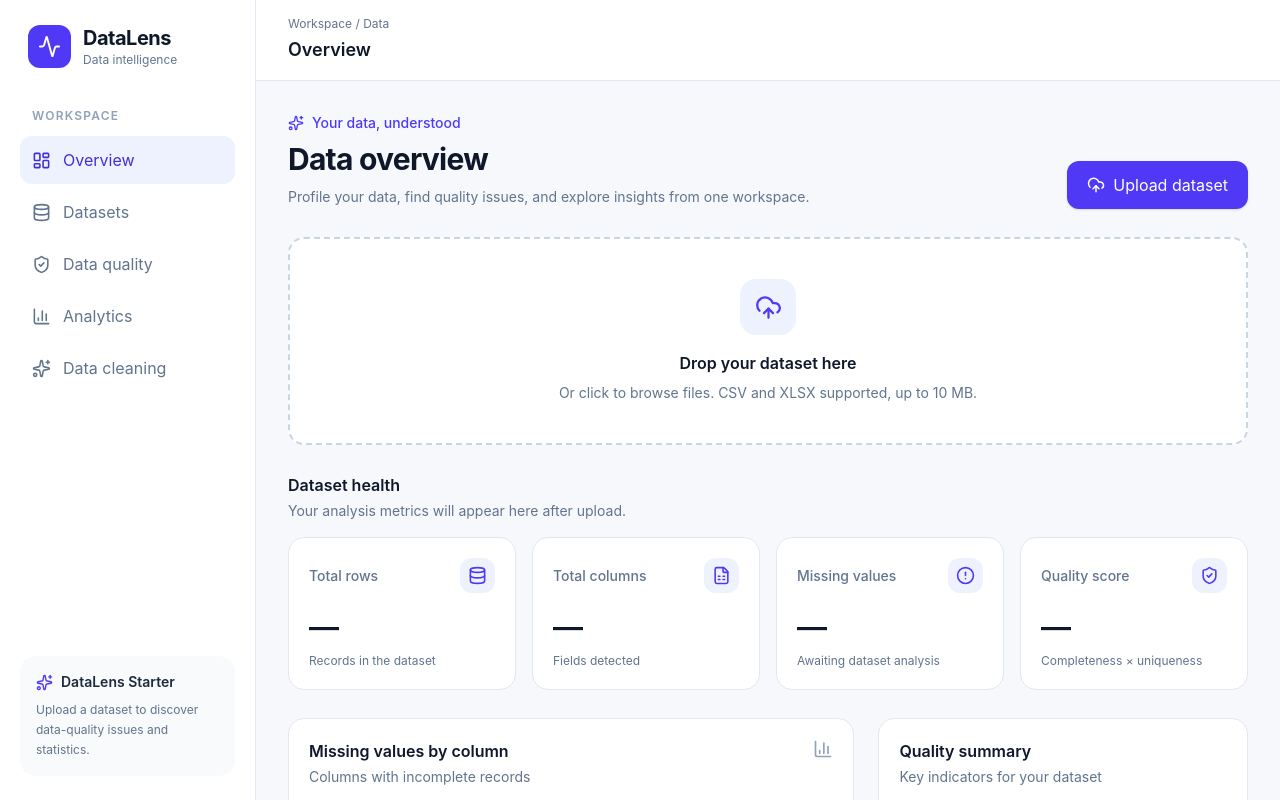
Test case: DataLens dashboard › opens the Data Cleaning Studio when no dataset is uploaded
Click the button "Data cleaning" at (128, 368), box [20,344,235,392]
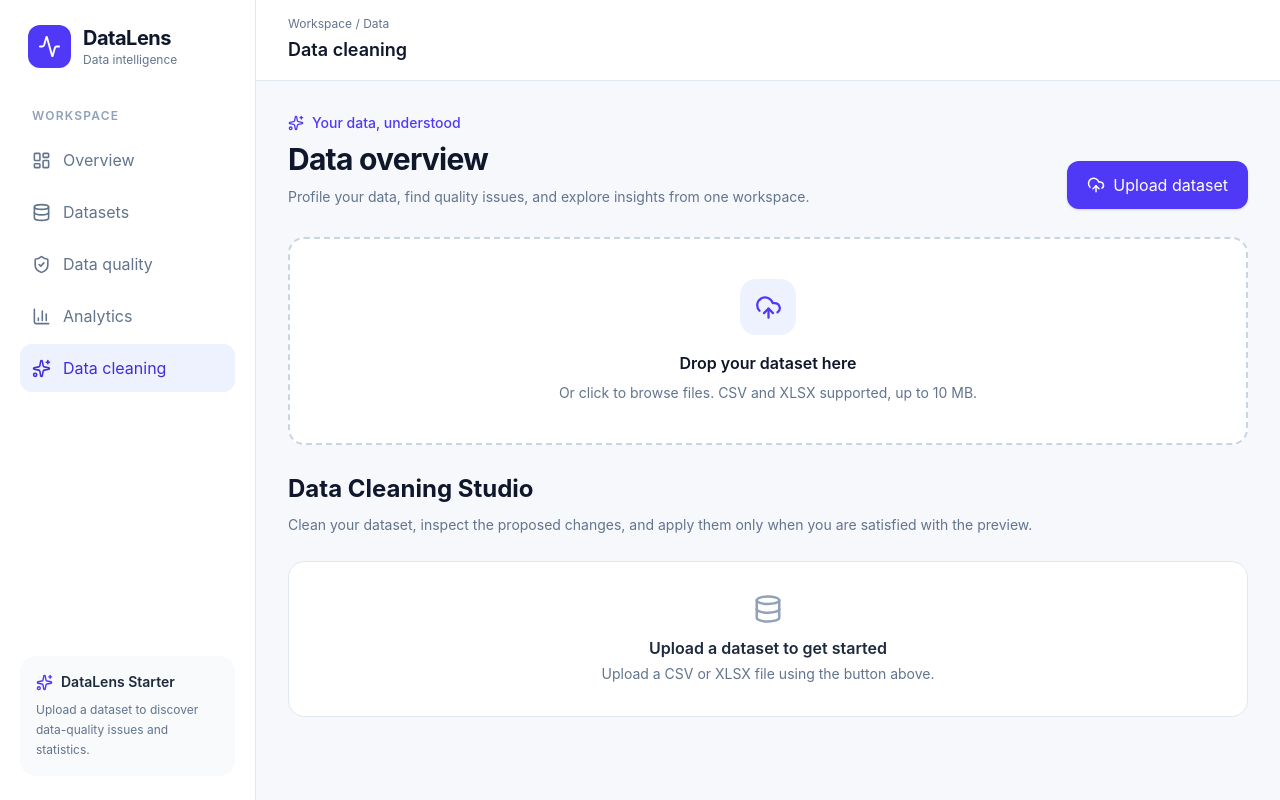
Now the heading "Data Cleaning Studio" is shown, box [288,474,534,503]
Now the text "Upload a dataset to get started" is shown, box [649,638,887,658]
